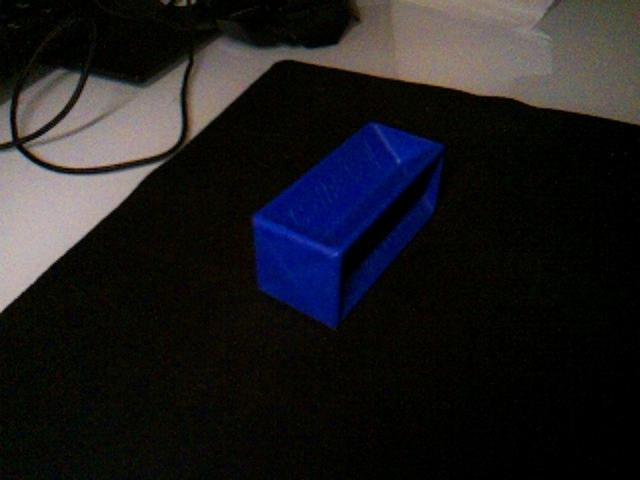blue: (250, 119, 447, 330)
